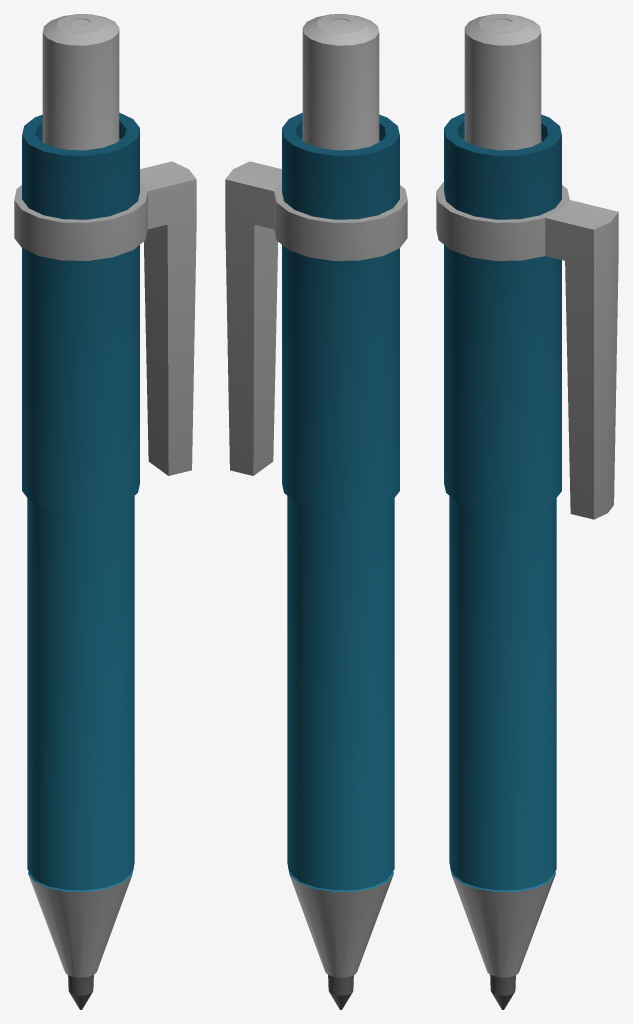
The model's file is L2_Pen.fbx.
3 views of the same model, side by side, from view 1: azimuth 30°, elevation 25°; view 2: azimuth 150°, elevation 25°; view 3: azimuth 330°, elevation 25° (orthographic).
Parts seen in each view (by area): view 1: Cylinder003; view 2: Cylinder003; view 3: Cylinder003.
Part boxes in pixels (x1,y1,x2,y2): Cylinder003: [14, 14, 196, 1009]; Cylinder003: [225, 14, 407, 1009]; Cylinder003: [436, 14, 618, 1009].
Bounding box in the file's own units: 2.48 × 14.02 × 1.66.
Materials: 1 (1 with a texture image).
